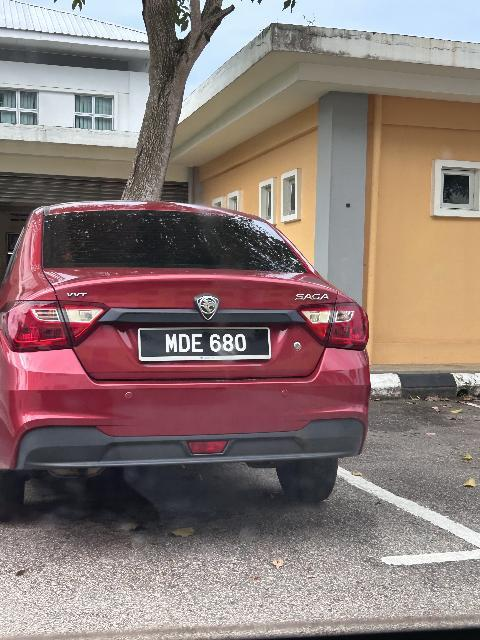License_Plate: (137, 324, 272, 368)
MDE680: (137, 324, 272, 368)
car: (2, 188, 375, 519)
